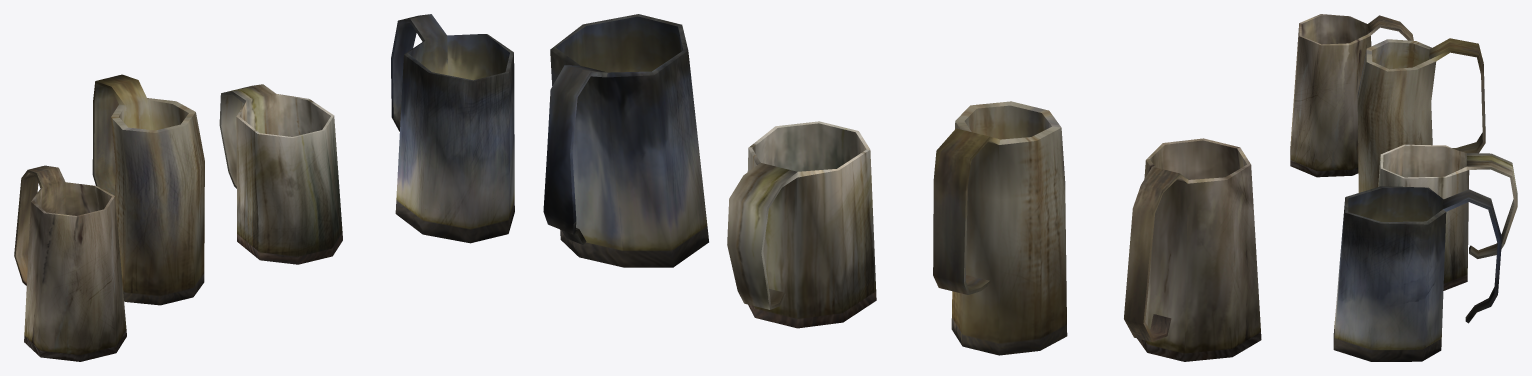
The model's file is MugHorn.fbx.
The picture shows the model from 3 angles, left to right: view 1: azimuth 30°, elevation 25°; view 2: azimuth 150°, elevation 25°; view 3: azimuth 270°, elevation 25°; orthographic projection. The views are drawn at different scales.
Parts seen in each view (by area): view 1: mug_horn_04, mug_horn_02, mug_horn_01, mug_horn_03; view 2: mug_horn_04, mug_horn_02, mug_horn_03, mug_horn_01; view 3: mug_horn_04, mug_horn_01, mug_horn_02, mug_horn_03.
Part boxes in pixels (x1=…): mug_horn_04: x1=391, y1=14, x2=514, y2=243; mug_horn_02: x1=92, y1=74, x2=204, y2=305; mug_horn_01: x1=14, y1=165, x2=126, y2=361; mug_horn_03: x1=219, y1=84, x2=342, y2=264; mug_horn_04: x1=543, y1=14, x2=708, y2=267; mug_horn_02: x1=933, y1=101, x2=1067, y2=355; mug_horn_03: x1=727, y1=121, x2=876, y2=328; mug_horn_01: x1=1124, y1=138, x2=1261, y2=361; mug_horn_04: x1=1333, y1=186, x2=1501, y2=361; mug_horn_01: x1=1290, y1=14, x2=1413, y2=177; mug_horn_02: x1=1357, y1=38, x2=1485, y2=192; mug_horn_03: x1=1378, y1=144, x2=1517, y2=290.
Size of the model in its own units: 0.5299 by 0.1808 by 0.2266.
